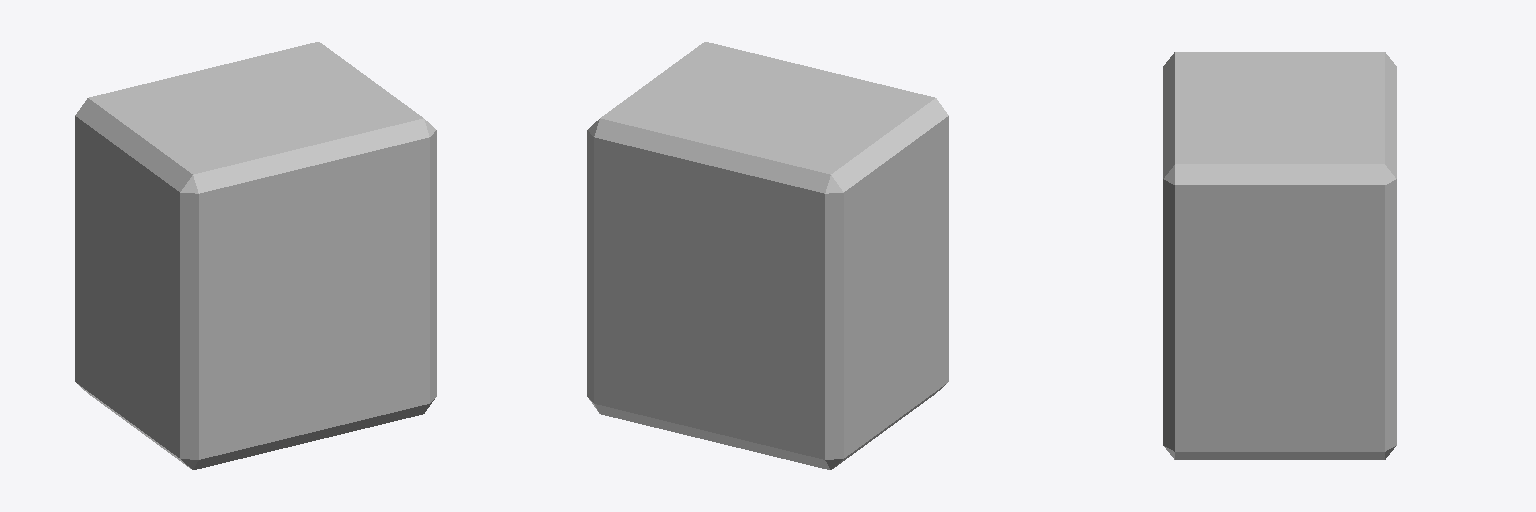
The model's file is Moon Rock.obj.
3 renders of one model, left to right at view 1: azimuth 30°, elevation 25°; view 2: azimuth 150°, elevation 25°; view 3: azimuth 270°, elevation 25°, orthographic.
Visible parts, largest first — view 1: Cube.007_Cube.008; view 2: Cube.007_Cube.008; view 3: Cube.007_Cube.008.
Part boxes in pixels (x1,y1,x2,y2): Cube.007_Cube.008: (75, 42, 436, 469); Cube.007_Cube.008: (587, 42, 948, 469); Cube.007_Cube.008: (1163, 52, 1396, 459).
Bounding box in the file's own units: 1.83 × 2.02 × 1.44.